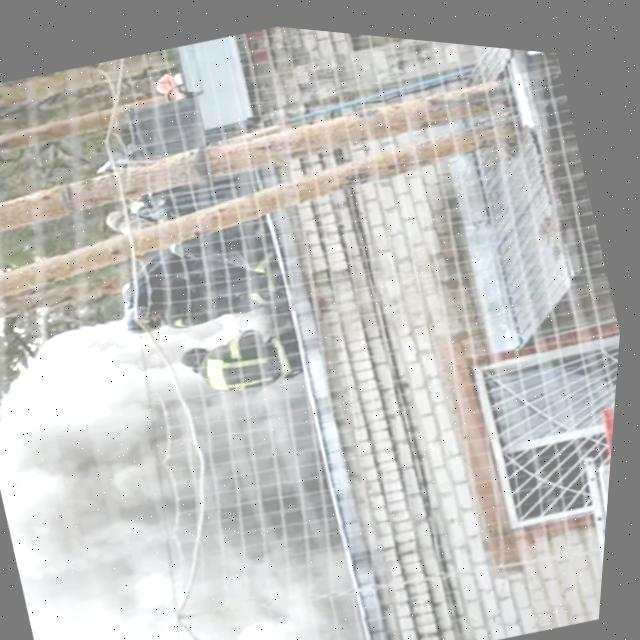Smoke: (0, 253, 403, 640)
